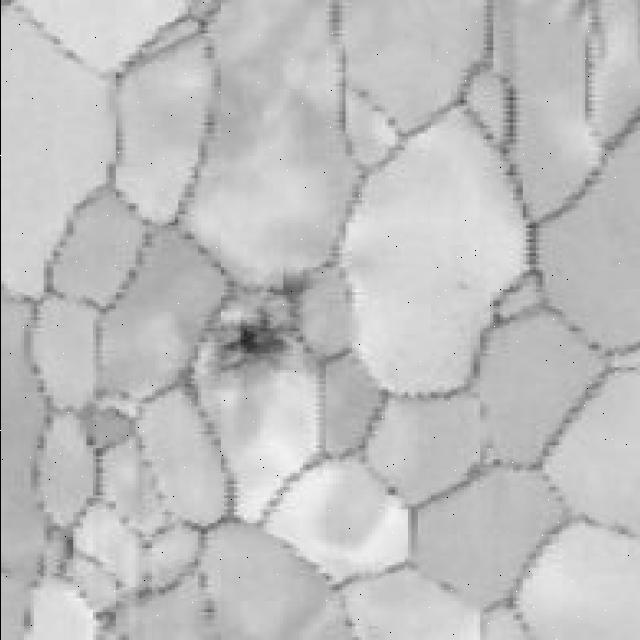good_void: (208, 307, 293, 376)
